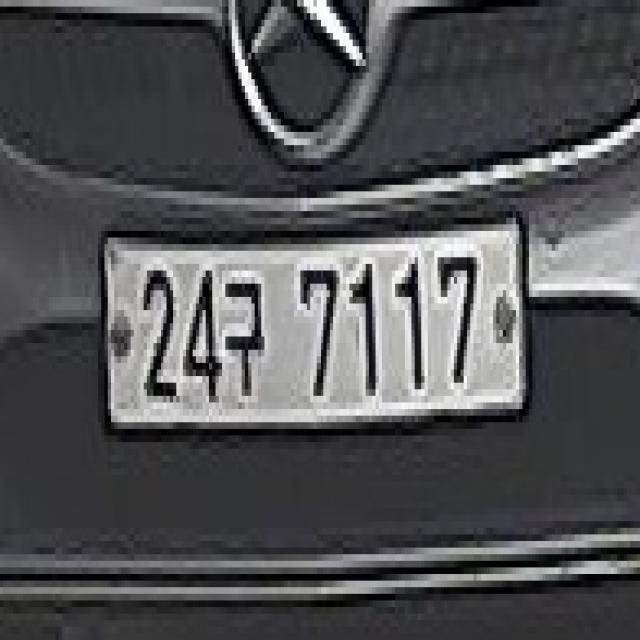1: (345, 249, 387, 402), (390, 242, 430, 400)
2: (130, 256, 180, 403)
4: (185, 260, 222, 406)
7: (434, 242, 484, 392), (292, 258, 341, 400)
gu: (225, 259, 272, 408)
license_plate: (101, 203, 527, 428)
